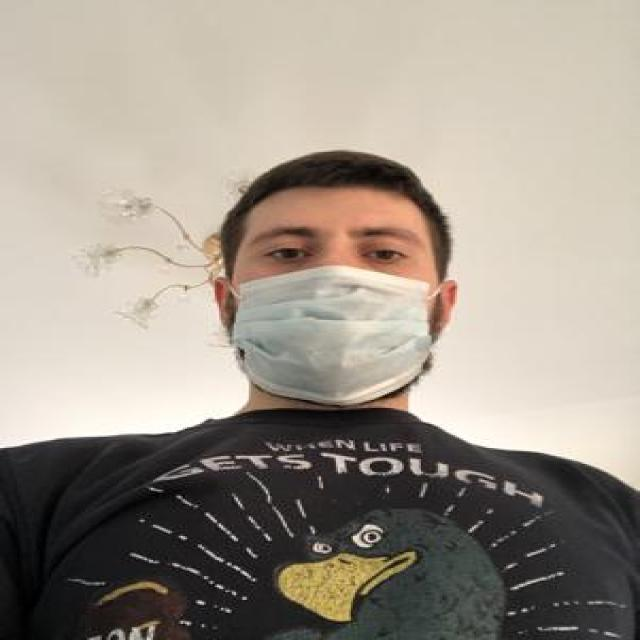with_mask: (231, 214, 437, 404)
